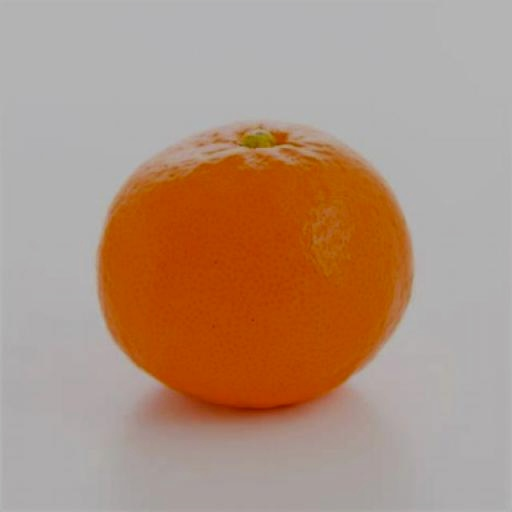fruit: (98, 123, 411, 407)
